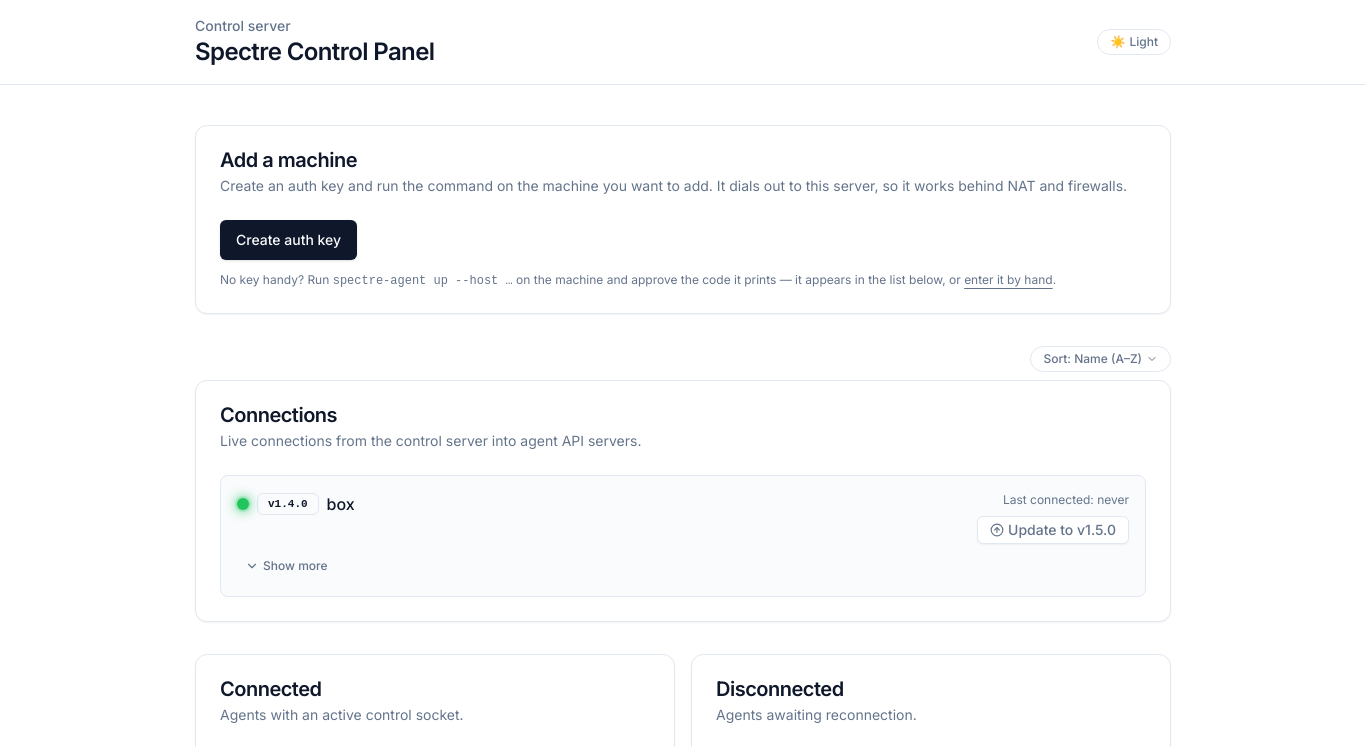
Test case: agent update button › reports a failure pushed from the machine and re-offers the update
What coordinates should you click on to do the following:
click the button "Update to v1.5.0"
I would click on:
 (1053, 530)
Its box is x1=977 y1=516 x2=1129 y2=544.
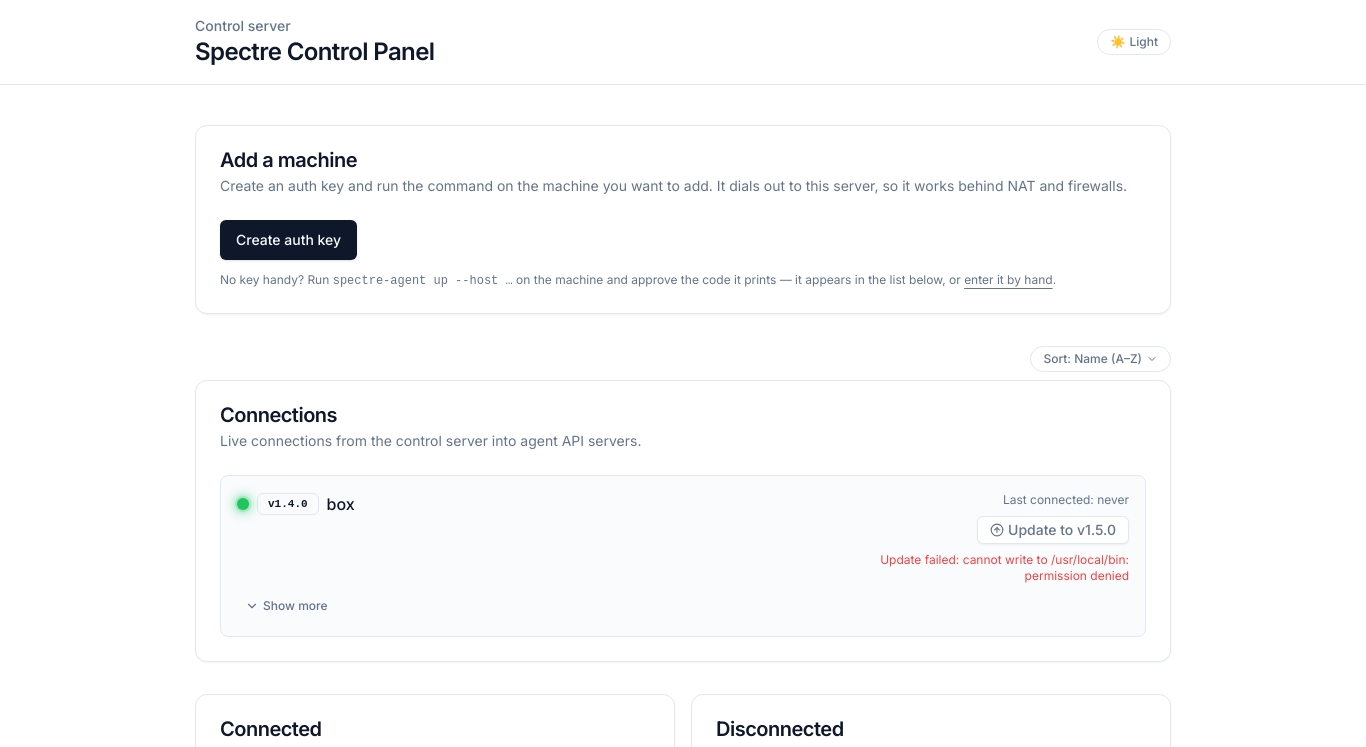
Expected: the text "Update failed: cannot write to /usr/local/bin" is shown, x1=873 y1=552 x2=1129 y2=584
